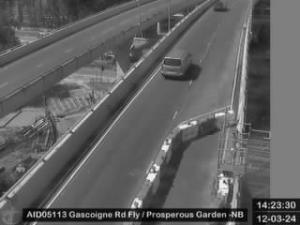vehicle: (162, 50, 189, 78), (214, 3, 226, 11)
